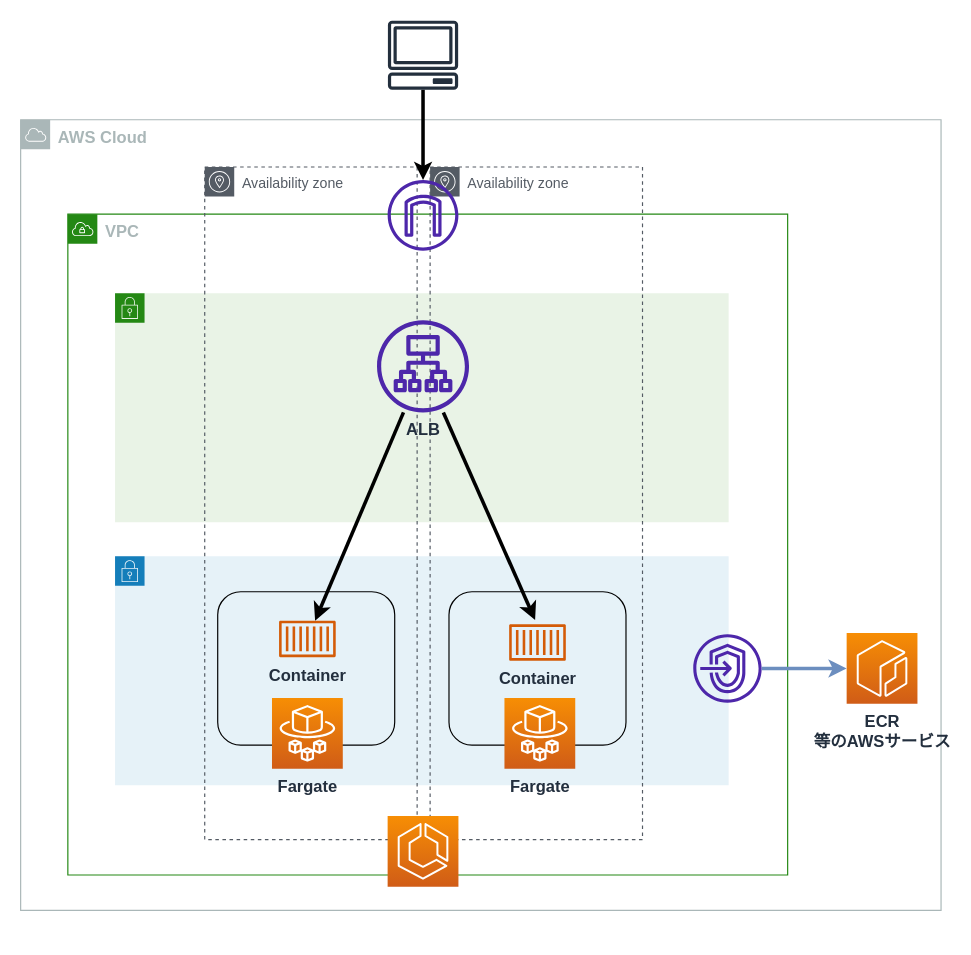
This 971x955 diagram has some shape labels left out. The shapes that lost their labels are listed below. From the top down, each one's box as (x1, y1, x2, y2) in pixels, then its label:
(387, 179, 458, 250): IGW
(114, 292, 729, 522): Public subnet
(114, 555, 729, 785): Private subnet
(693, 634, 761, 702): Endpoint
(386, 815, 458, 887): ECS Cluster
